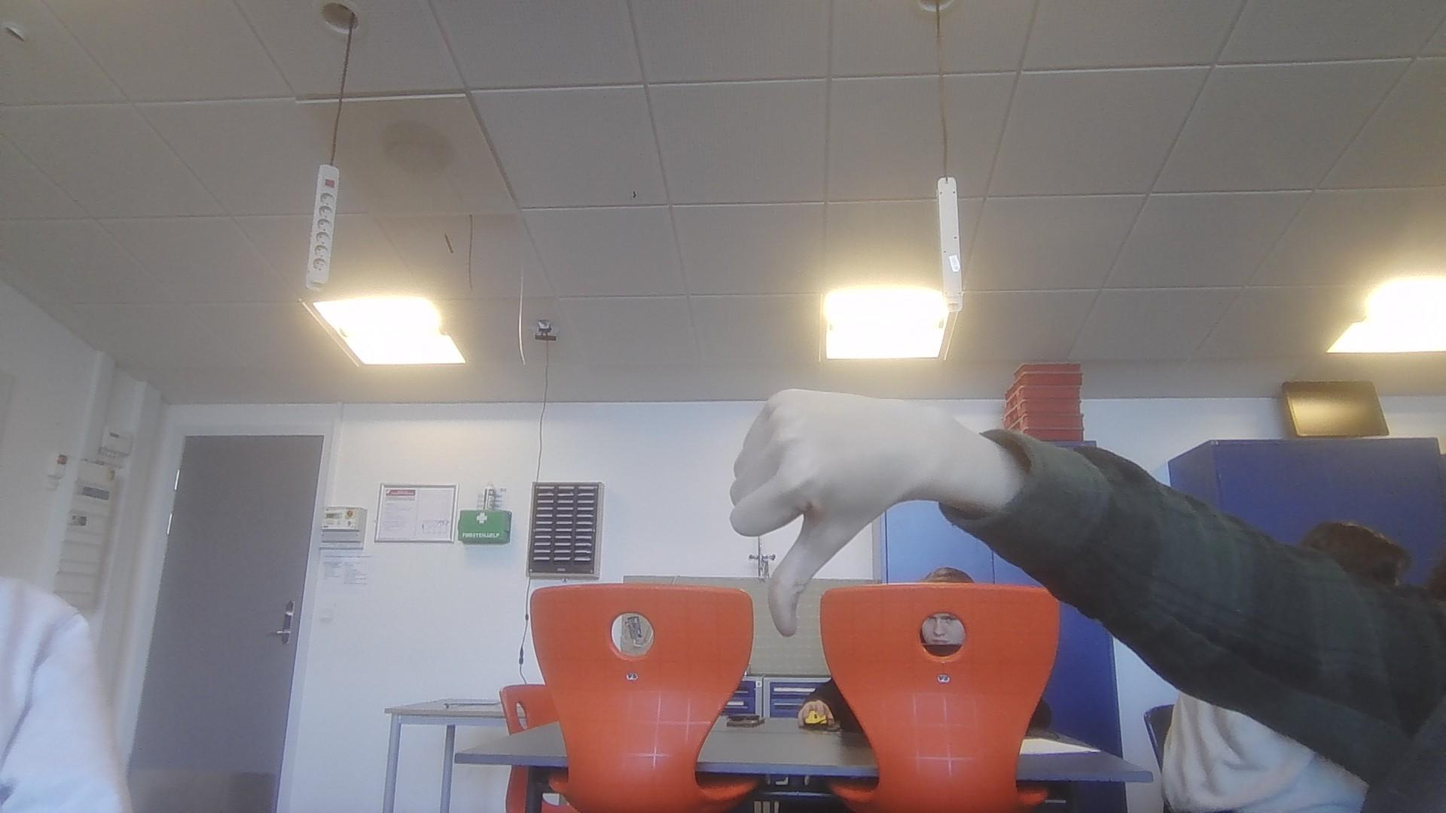thumbs down: (715, 382, 939, 635)
